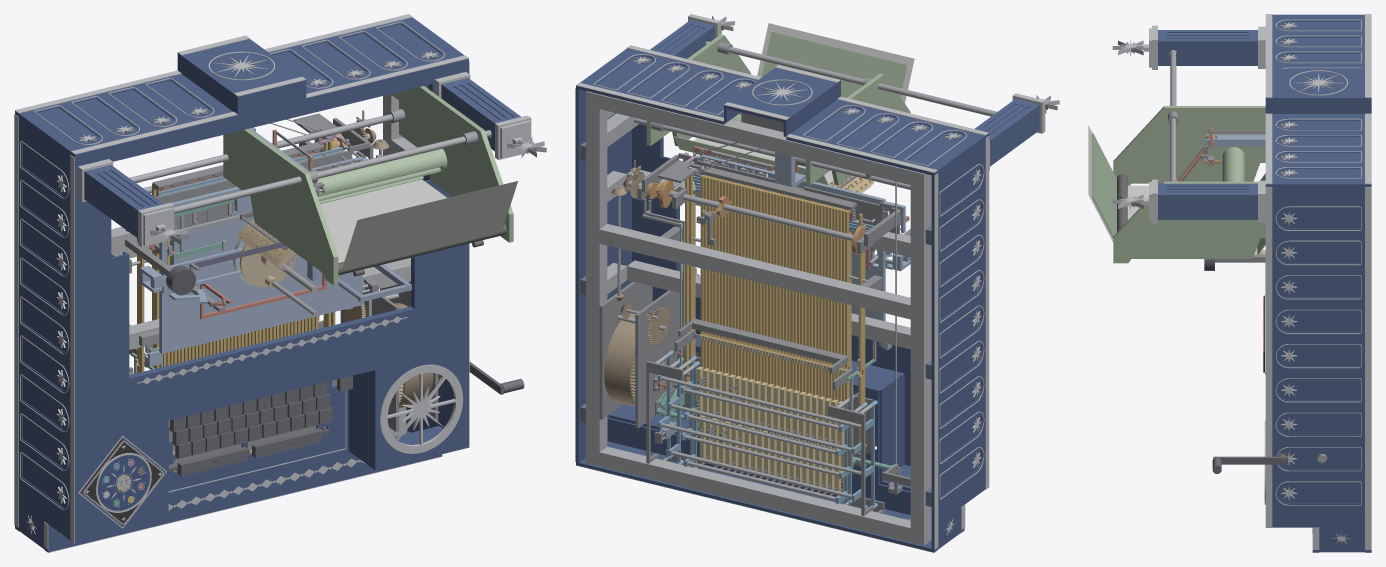
File: tpm2_assembly.glb
The picture shows the model from 3 angles, left to right: view 1: azimuth 30°, elevation 25°; view 2: azimuth 150°, elevation 25°; view 3: azimuth 270°, elevation 25°; orthographic projection. The views are drawn at different scales.
Visible parts, largest first — view 1: U-frame base, paper, carriage end plate -1, case left wall 2, case top band -1, case top band +1, case left wall 1, carriage end plate +1, case left wall 3, case top tower -1, case top side +1 a, case top side -1 a (+54 smaller); view 2: frame front, frame side -1, case left wall 2, frame cross pivot, frame side +1, case left wall 1, frame back, case left wall 3, paper rest, case back wall 5, case back wall 1, case back wall 4 (+94 smaller); view 3: case right wall 2, case right wall 3, case right wall 1, carriage end plate -1, carriage end plate +1, case pillar +1, case right wall 2 inlay, case pillar -1, case back wall 1, case back wall 5, case back wall 2, case right wall 3 inlay (+20 smaller).
Part boxes in pixels (x1=…): U-frame base: x1=137, y1=154, x2=381, y2=353; paper: x1=320, y1=179, x2=517, y2=271; carriage end plate -1: x1=223, y1=128, x2=338, y2=285; case left wall 2: x1=18, y1=250, x2=77, y2=446; case top band -1: x1=129, y1=343, x2=271, y2=429; case top band +1: x1=271, y1=308, x2=414, y2=395; case left wall 1: x1=18, y1=117, x2=77, y2=290; carriage end plate +1: x1=399, y1=86, x2=513, y2=242; case left wall 3: x1=18, y1=406, x2=77, y2=548; case top tower -1: x1=78, y1=420, x2=168, y2=542; case top side +1 a: x1=413, y1=258, x2=465, y2=360; case top side -1 a: x1=78, y1=341, x2=129, y2=442; frame front: x1=586, y1=446, x2=931, y2=545; frame side -1: x1=910, y1=183, x2=931, y2=531; case left wall 2: x1=931, y1=260, x2=985, y2=438; frame cross pivot: x1=599, y1=224, x2=910, y2=319; frame side +1: x1=586, y1=106, x2=607, y2=452; case left wall 1: x1=931, y1=139, x2=985, y2=296; frame back: x1=586, y1=91, x2=931, y2=188; case left wall 3: x1=931, y1=401, x2=985, y2=549; paper rest: x1=761, y1=32, x2=907, y2=97; case back wall 5: x1=860, y1=117, x2=988, y2=175; case back wall 1: x1=576, y1=48, x2=700, y2=106; case back wall 4: x1=786, y1=99, x2=910, y2=157; case right wall 2: x1=1272, y1=304, x2=1364, y2=441; case right wall 3: x1=1272, y1=187, x2=1364, y2=304; case right wall 1: x1=1272, y1=442, x2=1364, y2=549; carriage end plate -1: x1=1113, y1=106, x2=1265, y2=185; carriage end plate +1: x1=1113, y1=181, x2=1265, y2=263; case pillar +1: x1=1158, y1=183, x2=1257, y2=219; case right wall 2 inlay: x1=1265, y1=304, x2=1371, y2=441; case pillar -1: x1=1158, y1=30, x2=1257, y2=65; case back wall 1: x1=1265, y1=149, x2=1371, y2=186; case back wall 5: x1=1272, y1=14, x2=1364, y2=49; case back wall 2: x1=1272, y1=114, x2=1364, y2=148; case right wall 3 inlay: x1=1265, y1=187, x2=1371, y2=304.
Size of the model in its own units: 0.5648 by 0.5713 by 0.3741.
